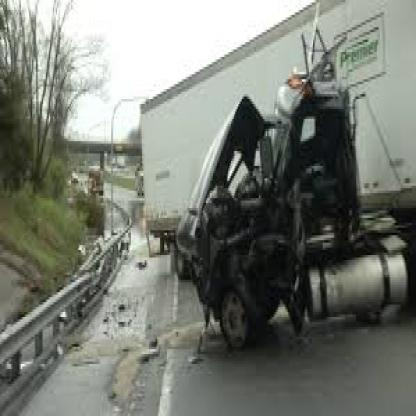accident: (129, 0, 416, 352)
